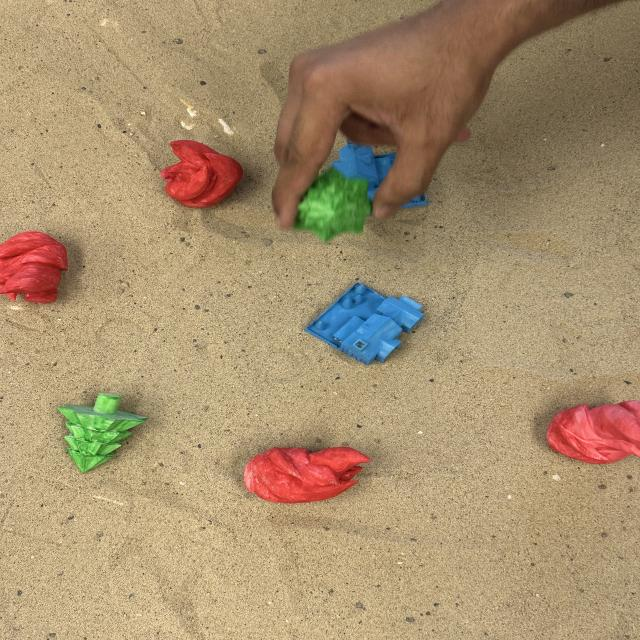fire: (242, 444, 372, 504), (544, 398, 638, 465), (159, 138, 244, 209), (0, 232, 70, 306)
house: (303, 280, 426, 366)
tree: (55, 391, 149, 474), (295, 170, 377, 243)
